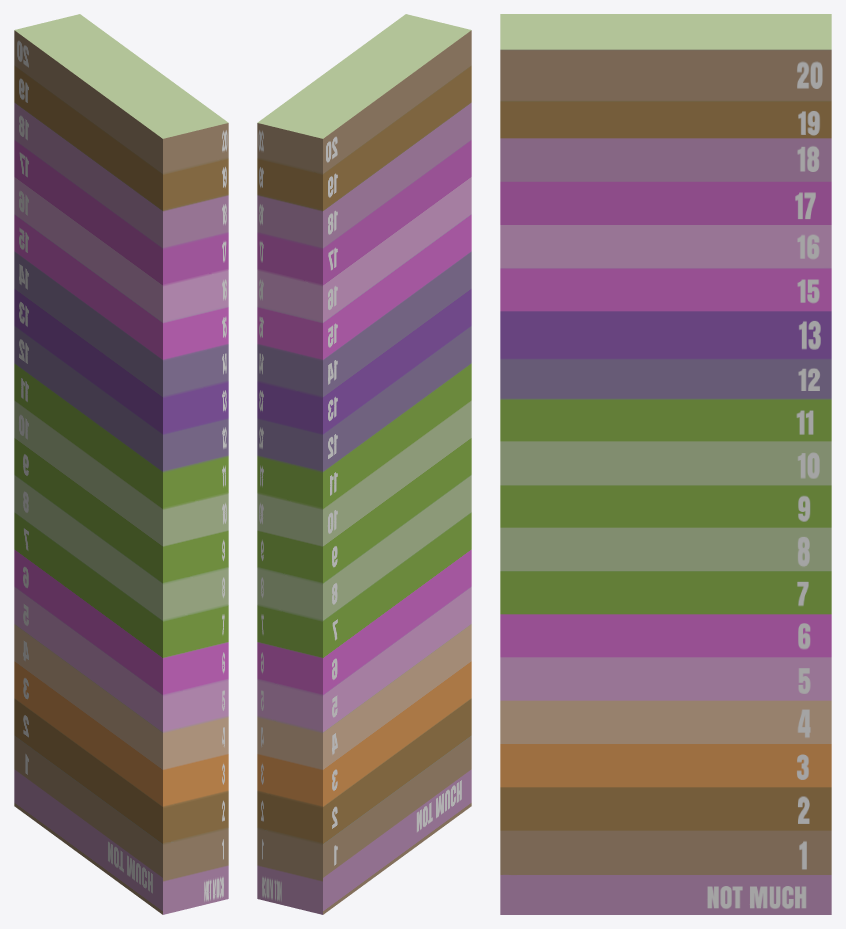
File: score (1).fbx
3 views of the same model, side by side, from view 1: azimuth 30°, elevation 25°; view 2: azimuth 150°, elevation 25°; view 3: azimuth 270°, elevation 25° (orthographic). The views are drawn at different scales.
Visible parts, largest first — view 1: Cube.003; view 2: Cube.003; view 3: Cube.003.
Part boxes in pixels (bbox=[...]): Cube.003: bbox=[14, 14, 228, 914]; Cube.003: bbox=[257, 14, 471, 914]; Cube.003: bbox=[500, 14, 831, 914].
Bounding box in the file's own units: 61.13 × 689 × 239.
1 material, 1 textured.
